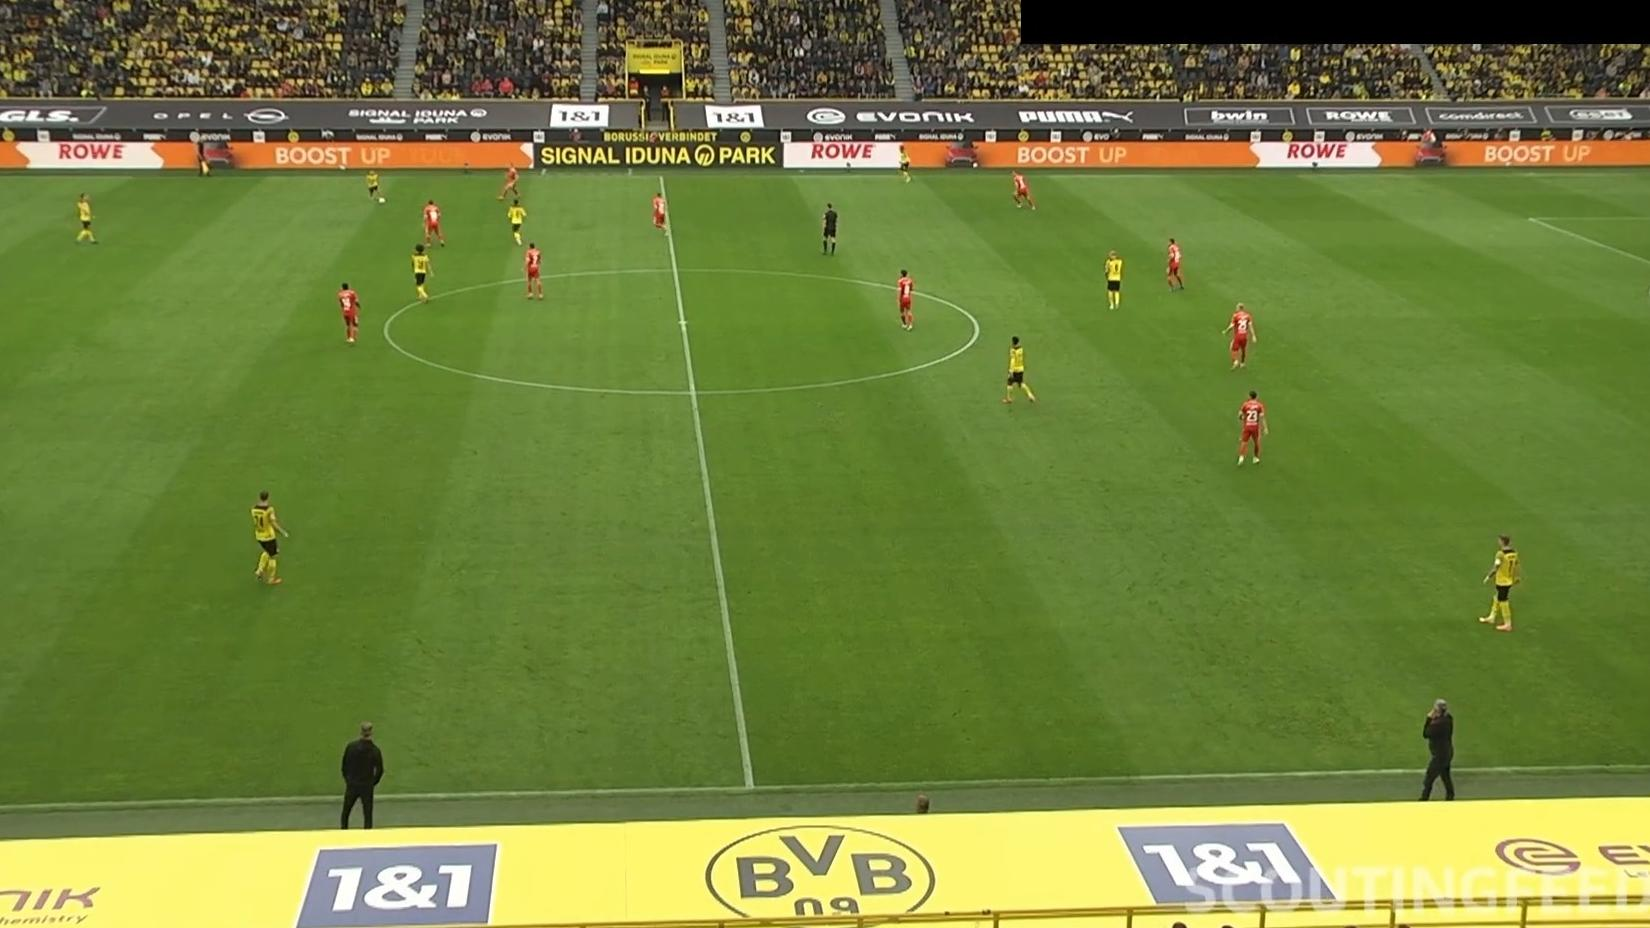ball: (379, 196, 388, 205)
